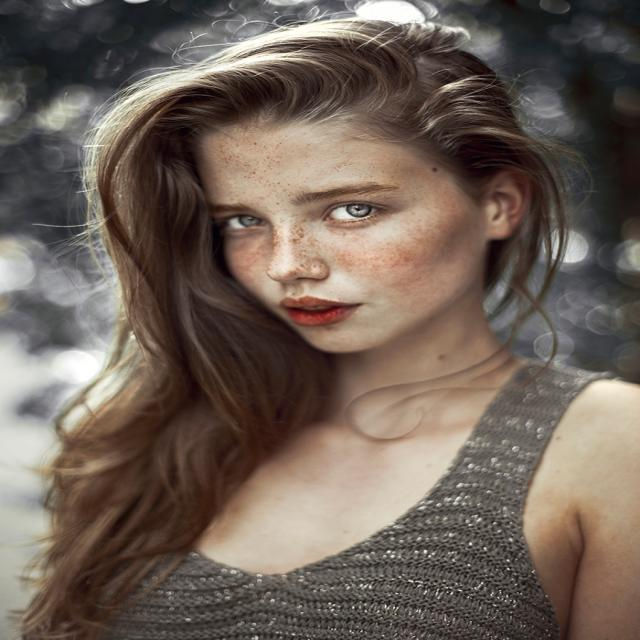earlobe: (484, 164, 532, 240)
